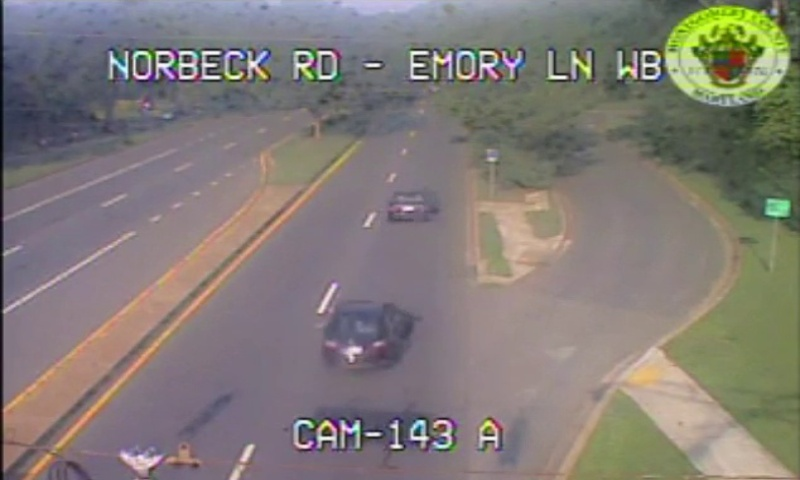car: (321, 301, 398, 369), (387, 192, 421, 218)
